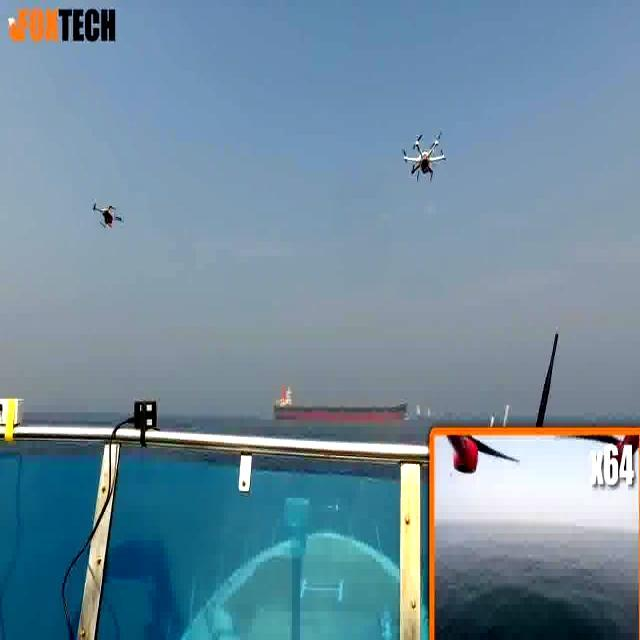drone: (395, 116, 448, 201), (86, 187, 125, 244)
